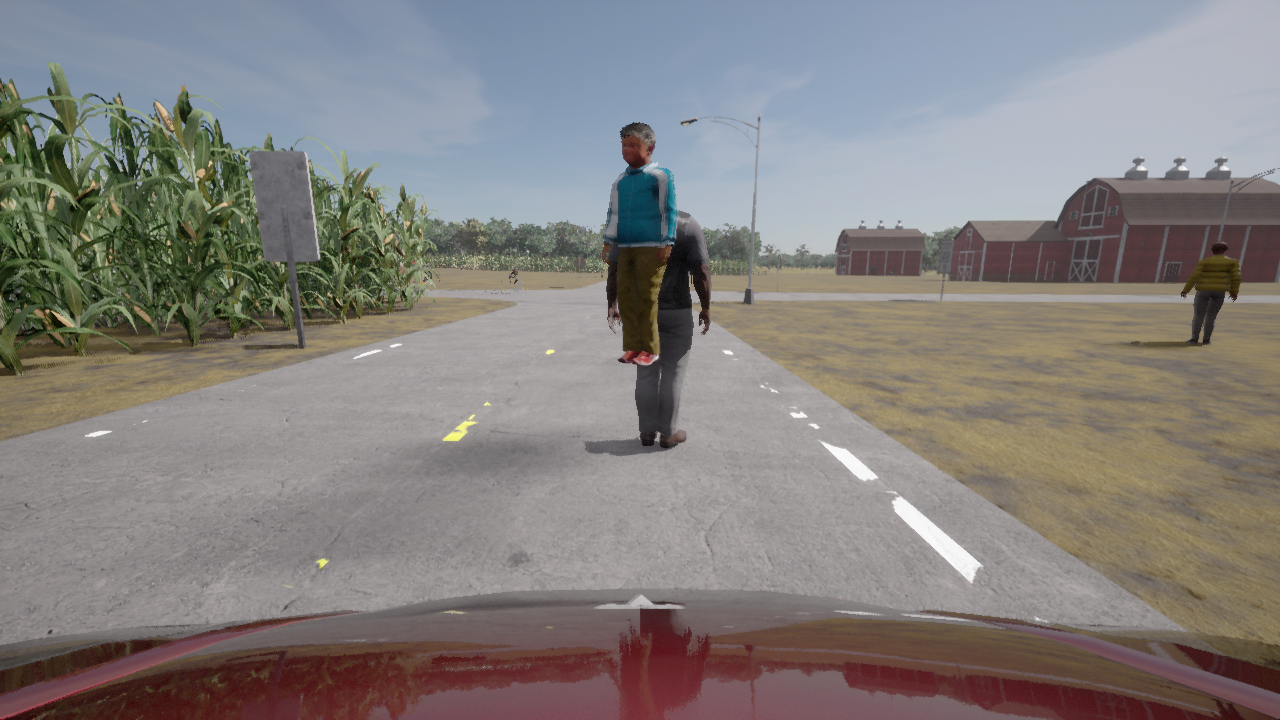cyclist: (0, 588, 1279, 719), (325, 220, 425, 294), (413, 264, 432, 289), (499, 279, 525, 293)
pedestrian: (605, 211, 709, 448), (603, 120, 678, 366), (1179, 242, 1242, 344)
